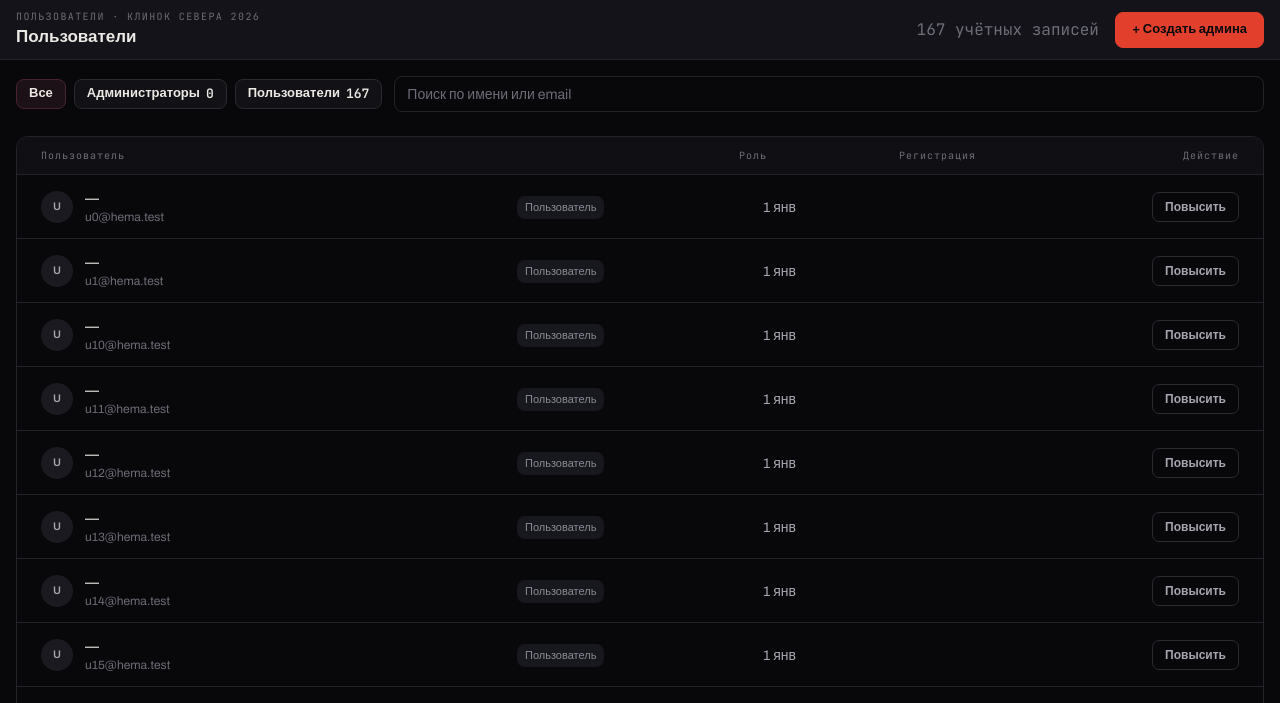
Scenario: UsersScreen › fills the section header: crumb with tournament name, title, count, and an action that opens the create-admin modal (AC-13)
Expected: the text "ПОЛЬЗОВАТЕЛИ · КЛИНОК СЕВЕРА 2026" is shown, [16,9,260,24]
Expected: the text "Пользователи" below "ПОЛЬЗОВАТЕЛИ · КЛИНОК СЕВЕРА 2026" is shown, [16,27,137,46]
Click the button "+ Создать админа".
click(1189, 30)  # box [1115,12,1264,48]
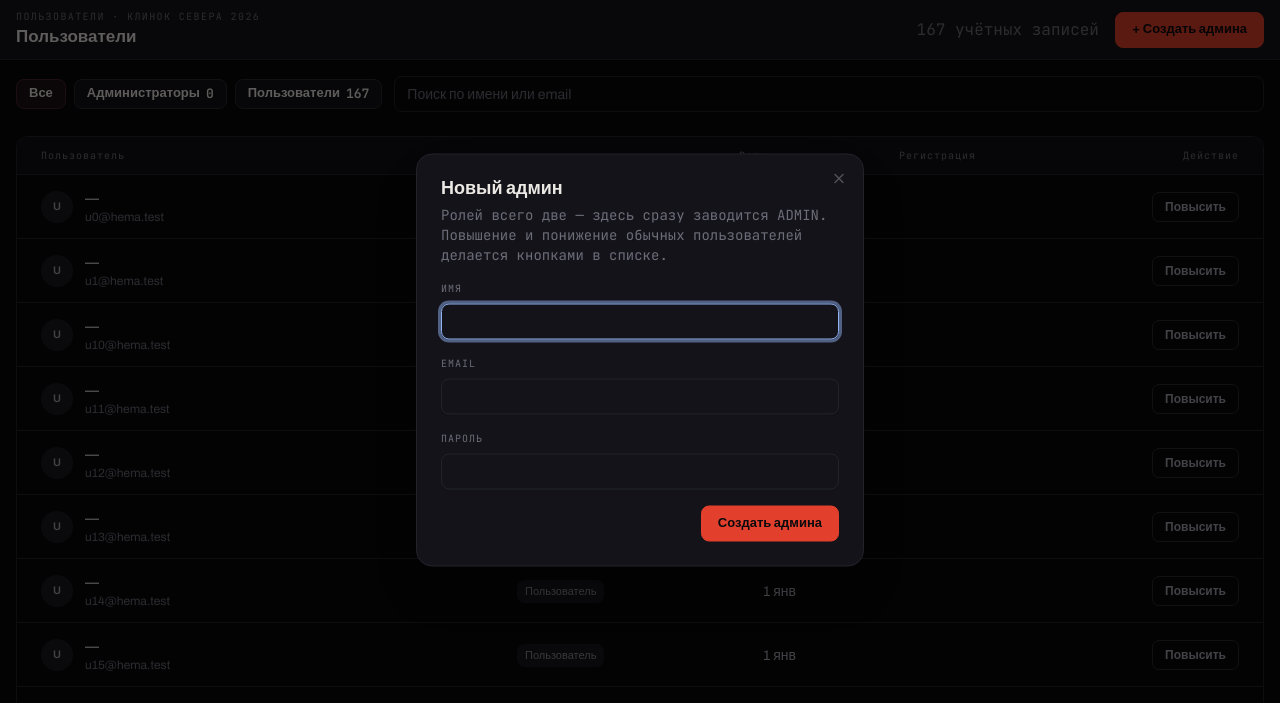
Expected: the dialog is shown, [416,154,864,566]
